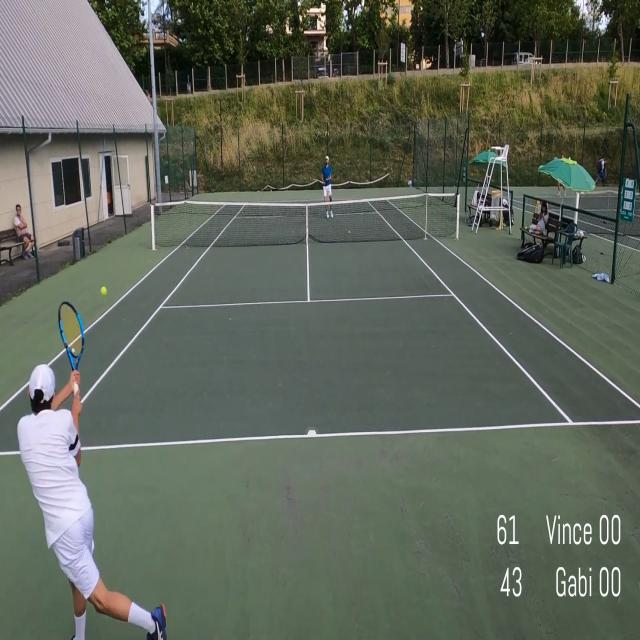ball: (98, 284, 110, 298), (348, 230, 350, 234)
